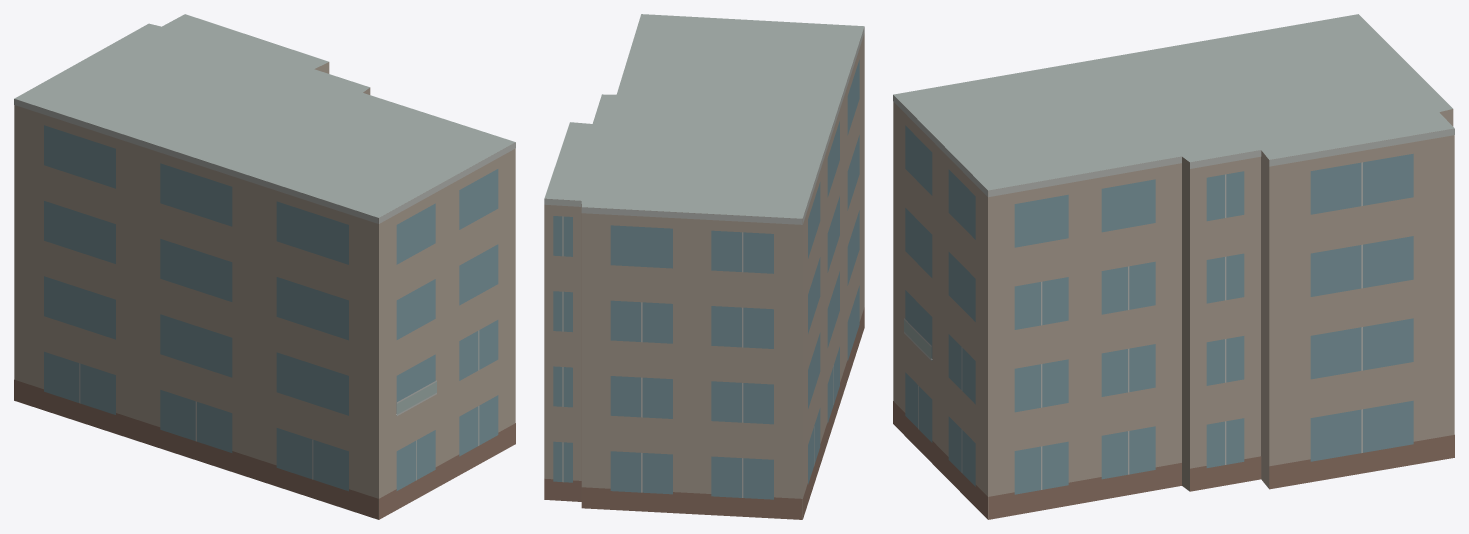
The model's file is survey-upis-32759124.glb.
3 views of the same model, side by side, from view 1: azimuth 30°, elevation 25°; view 2: azimuth 150°, elevation 25°; view 3: azimuth 270°, elevation 25° (orthographic). The views are drawn at different scales.
Parts seen in each view (by area): view 1: survey-upis-32759124.tmp; view 2: survey-upis-32759124.tmp; view 3: survey-upis-32759124.tmp.
Part boxes in pixels (box(x1,y1,x2,y2)): survey-upis-32759124.tmp: box(14, 14, 515, 519); survey-upis-32759124.tmp: box(544, 14, 864, 519); survey-upis-32759124.tmp: box(893, 14, 1454, 519).
Size of the model in its own units: 13.81 by 12 by 18.56.
